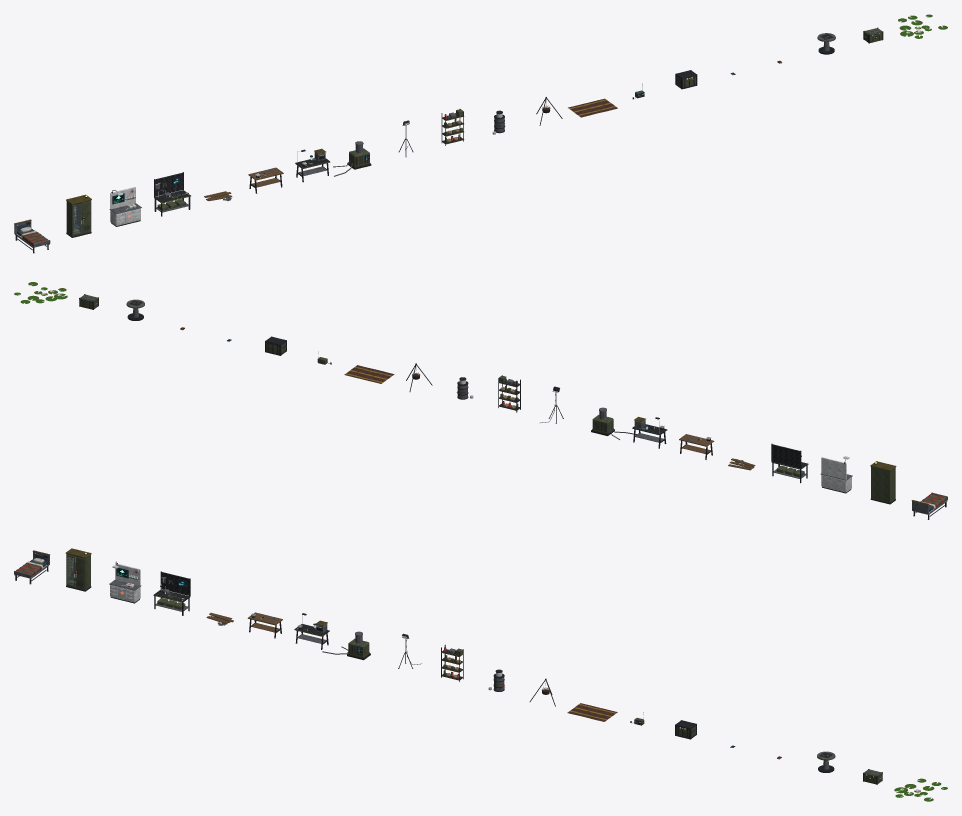
File: camp_props.glb
3 renders of one model, top to bottom at view 1: azimuth 30°, elevation 25°; view 2: azimuth 150°, elevation 25°; view 3: azimuth 330°, elevation 25°, orthographic.
Visible parts, largest first — view 1: DroidBench, ArmoryLocker, MedBench, Bed, CraftBench2, Shelf, Rug, Generator; view 2: ArmoryLocker, DroidBench, MedBench, CraftBench2, Shelf, Bed, Rug, Generator; view 3: DroidBench, MedBench, ArmoryLocker, Bed, CraftBench2, Shelf.
Boxes of the visible parts, x1,y1,x2,y2 form: DroidBench: [154, 172, 190, 216]; ArmoryLocker: [66, 194, 91, 237]; MedBench: [109, 187, 141, 226]; Bed: [14, 219, 50, 253]; CraftBench2: [295, 148, 330, 182]; Shelf: [441, 109, 464, 145]; Rug: [568, 98, 617, 117]; Generator: [333, 141, 371, 176]; ArmoryLocker: [870, 461, 896, 504]; DroidBench: [771, 443, 808, 483]; MedBench: [820, 456, 852, 493]; CraftBench2: [632, 416, 667, 448]; Shelf: [498, 375, 520, 412]; Bed: [911, 492, 947, 519]; Rug: [344, 365, 394, 383]; Generator: [591, 407, 636, 439]; DroidBench: [153, 571, 190, 615]; MedBench: [109, 561, 141, 603]; ArmoryLocker: [65, 548, 91, 591]; Bed: [14, 550, 50, 584]; CraftBench2: [294, 613, 329, 649]; Shelf: [441, 644, 463, 681].
Size of the model in its own units: 58.85 by 2.23 by 2.9.
33 materials, 19 textured.
